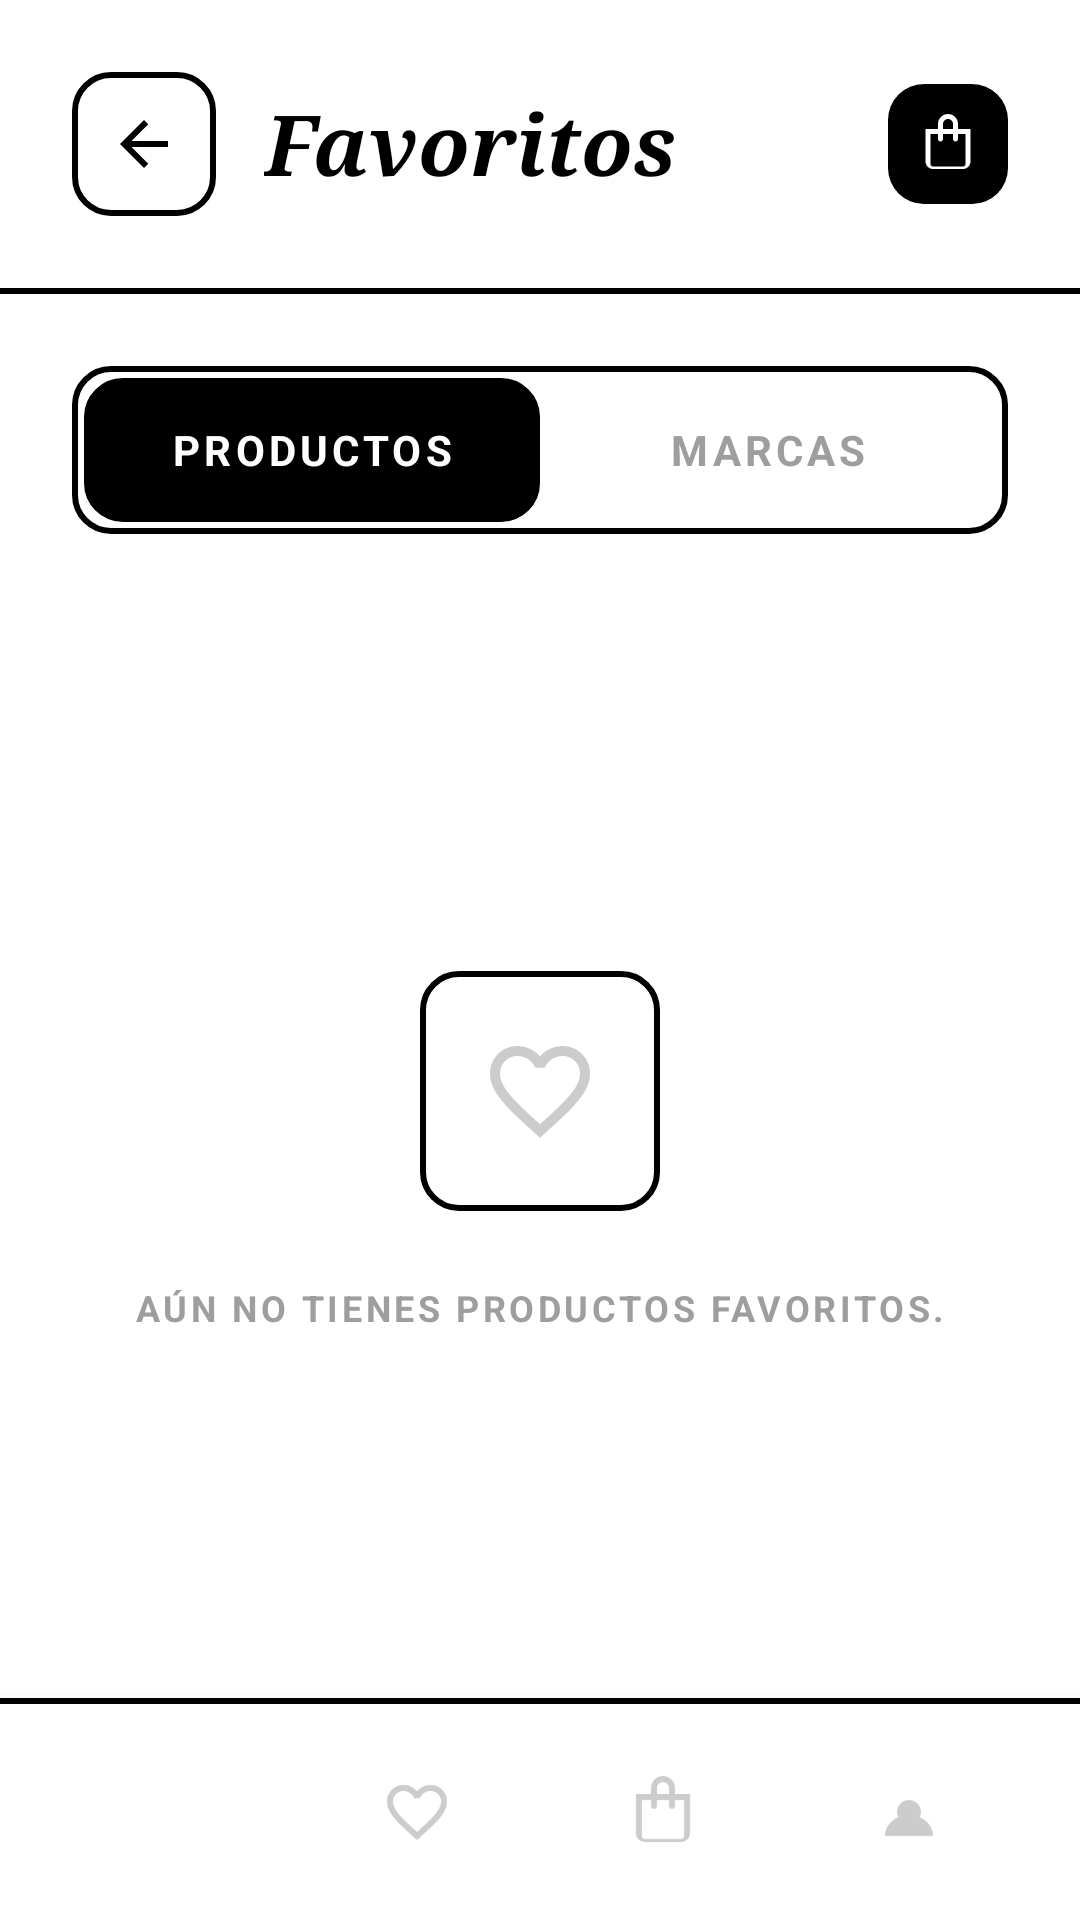

Locate icon controls on the screen. Image size 1080 x 1920, boxes as (x1, y1, x2, y2).
arrow back: (72, 72, 216, 216)
bag: (888, 84, 1008, 204), (636, 1776, 690, 1842)
heart: (490, 1046, 590, 1137), (387, 1785, 447, 1840)
person: (885, 1800, 933, 1836)
